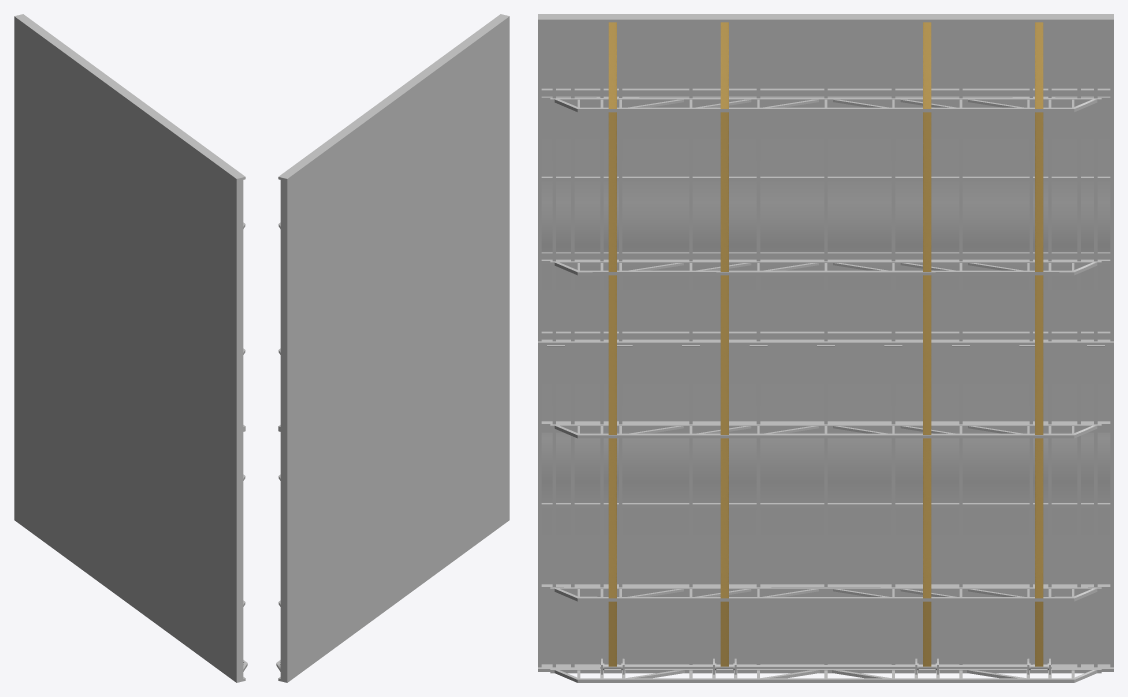
Rendered from SM_Door_Hangar_Closed_B.fbx.
The picture shows the model from 3 angles, left to right: view 1: azimuth 30°, elevation 25°; view 2: azimuth 150°, elevation 25°; view 3: azimuth 270°, elevation 25°; orthographic projection. The views are drawn at different scales.
Visible parts, largest first — view 1: SM_Door_Hangar_Closed_B_LOD0; view 2: SM_Door_Hangar_Closed_B_LOD0; view 3: SM_Door_Hangar_Closed_B_LOD0.
Part boxes in pixels (box(x1,y1,x2,y2)): SM_Door_Hangar_Closed_B_LOD0: box(14, 14, 247, 682); SM_Door_Hangar_Closed_B_LOD0: box(276, 14, 509, 682); SM_Door_Hangar_Closed_B_LOD0: box(538, 14, 1113, 682).
Bounding box in the file's own units: 82.02 × 1200 × 1500.
Materials: 3 (1 with a texture image).
